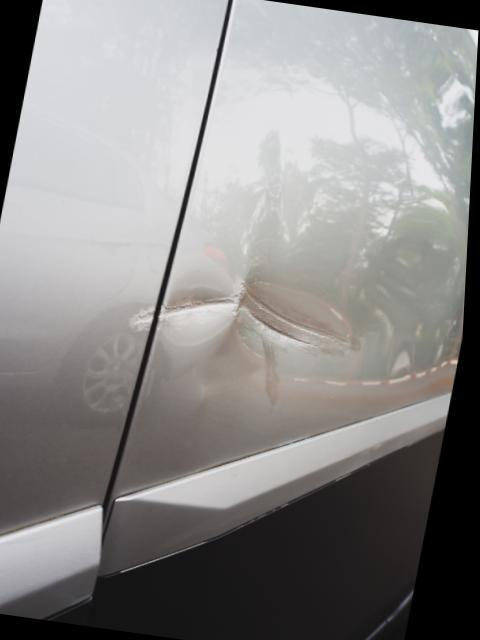dent: (163, 274, 361, 357)
scratch: (267, 357, 291, 408), (122, 305, 159, 334)
